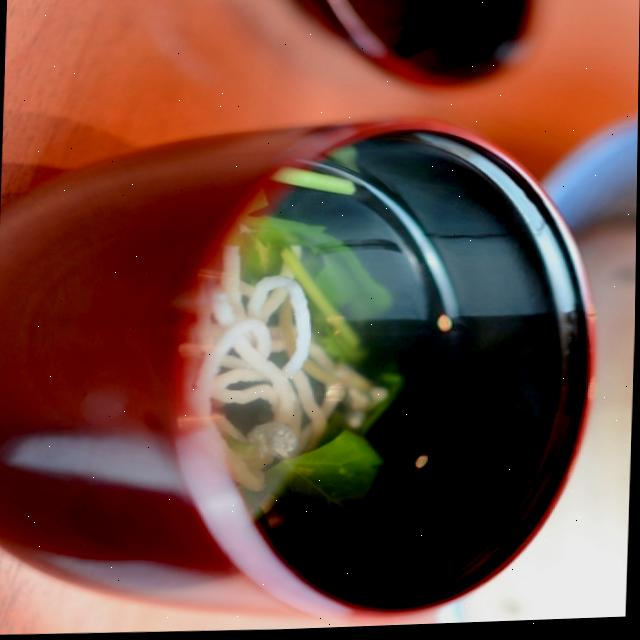汤锅炖物: (0, 106, 608, 640)
